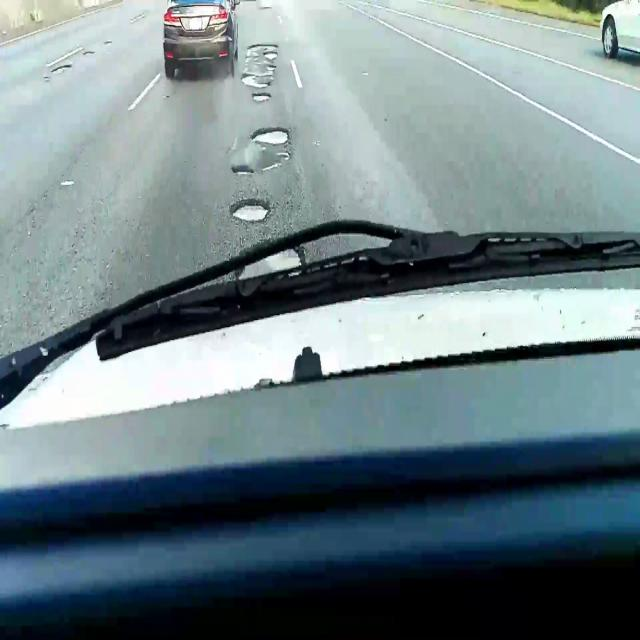Pothole: (233, 242, 308, 280), (252, 127, 290, 145), (233, 204, 270, 220), (241, 73, 270, 88), (230, 164, 253, 176), (245, 43, 278, 51), (250, 92, 272, 103), (50, 64, 72, 74), (264, 51, 279, 60)
